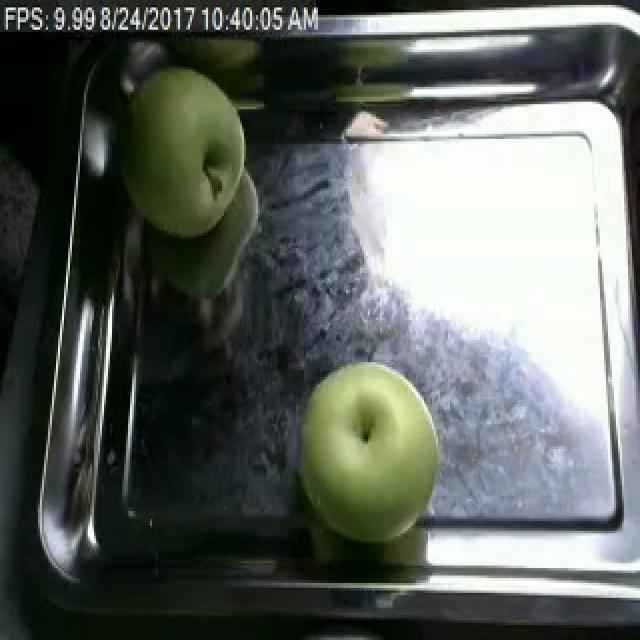50-_ripeness: (294, 363, 440, 545), (110, 74, 258, 242)
